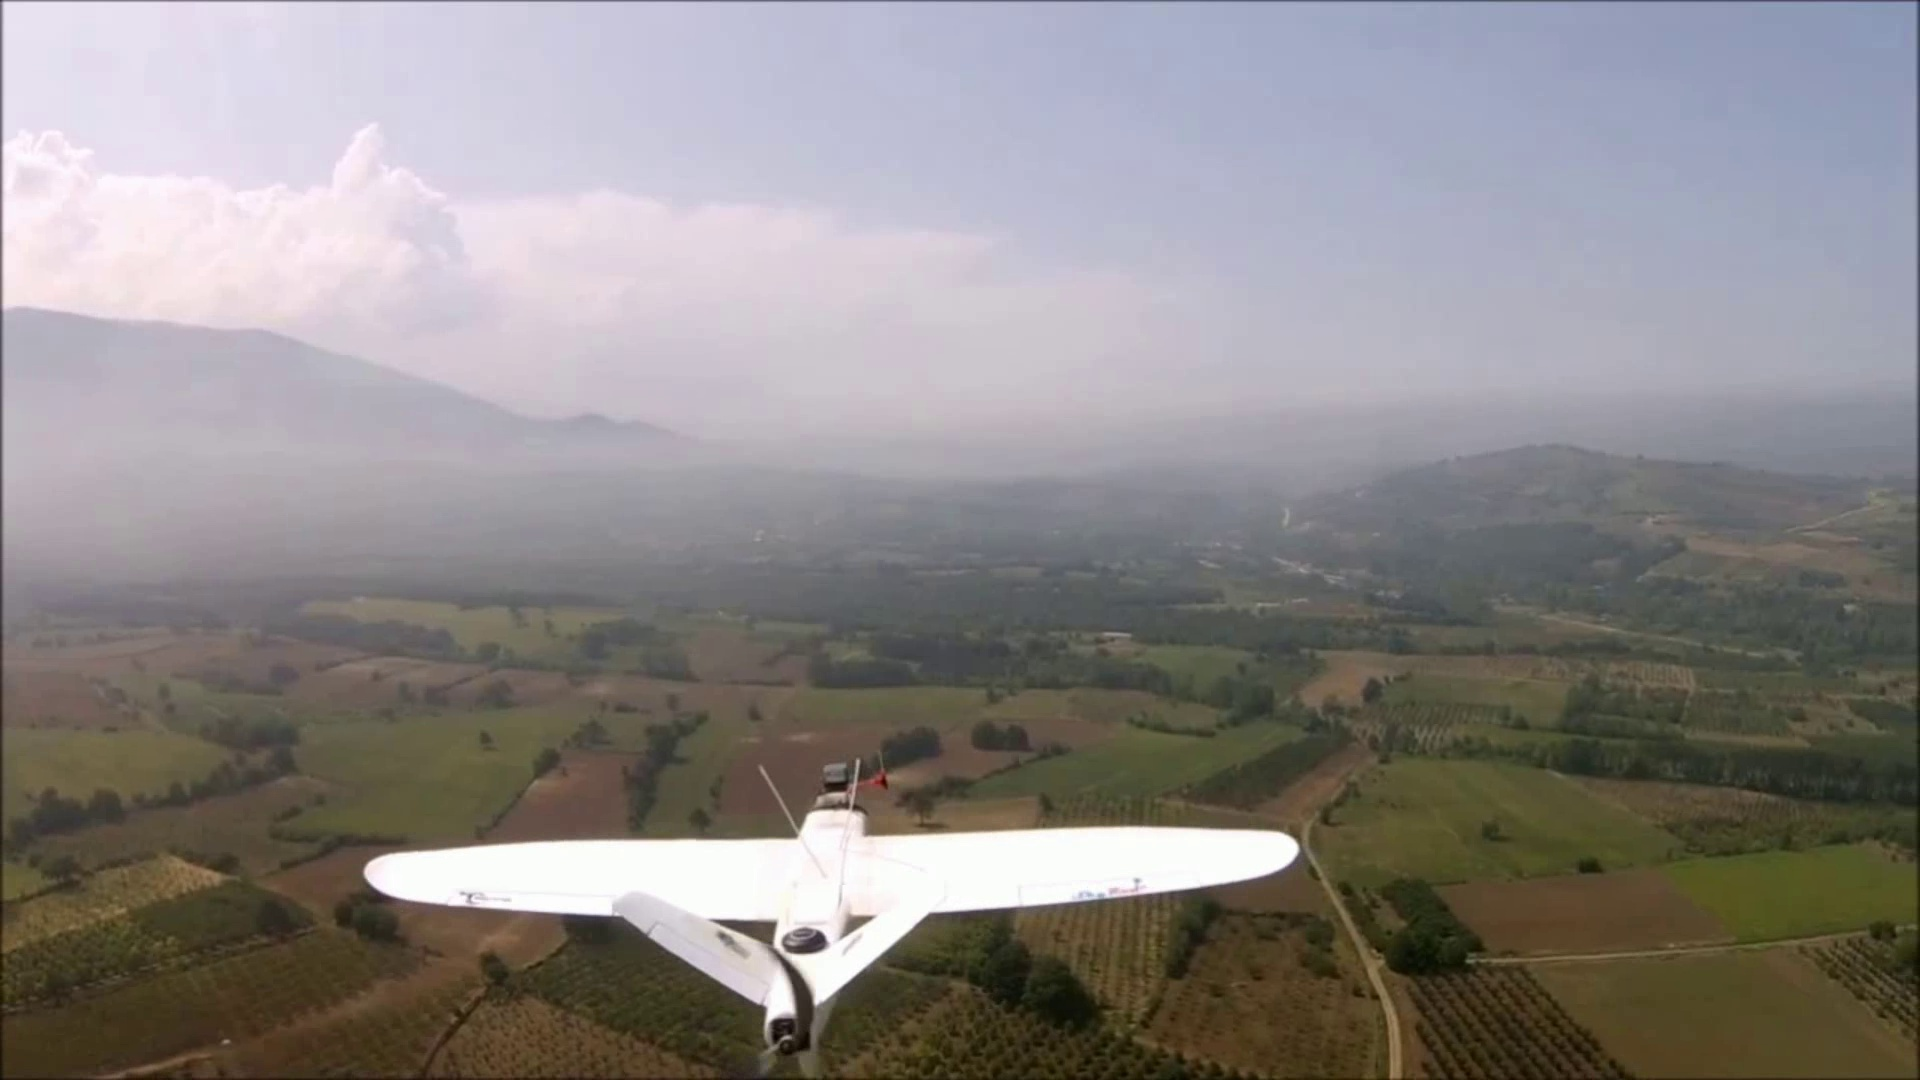airplane: (361, 756, 1305, 1062)
